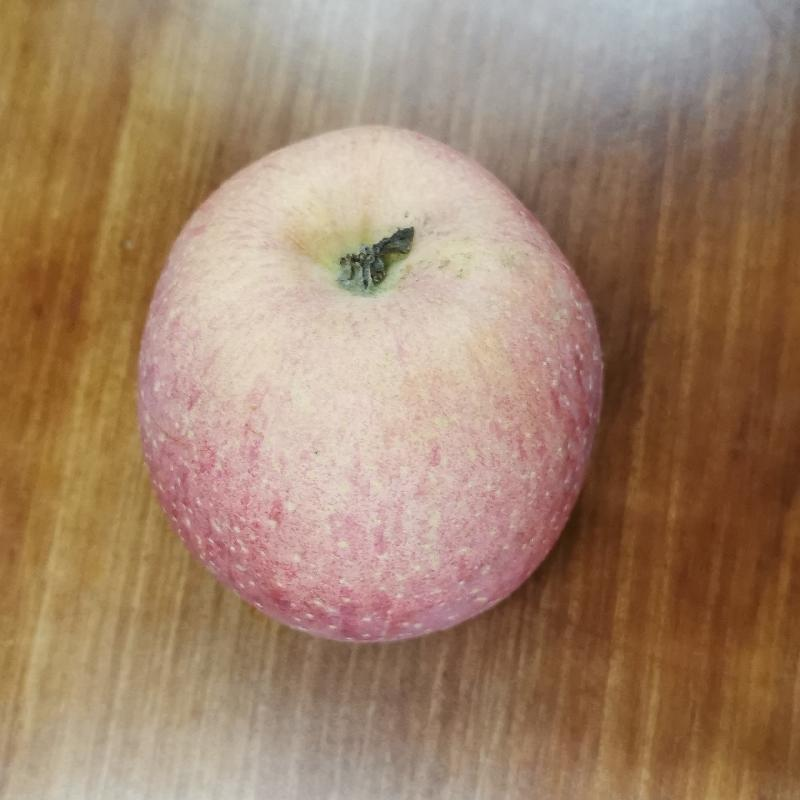apples: (135, 121, 619, 649)
